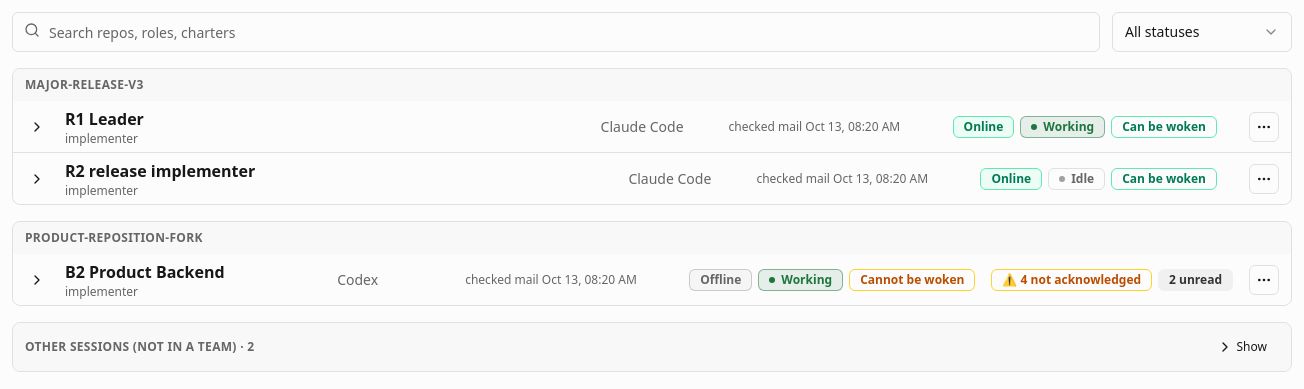
Team tab roster › closes the menu with Escape and moves focus with the arrow keys
The image size is (1304, 389).
Click the button named "Actions for R1 Leader". click: (1264, 126)
box: left=1249, top=112, right=1279, bottom=142
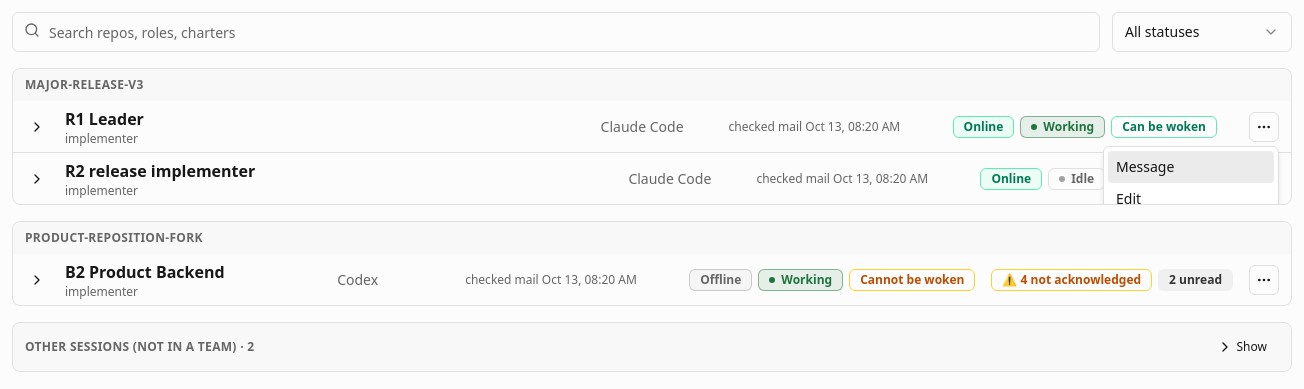
Press ArrowDown in the menu item "Message", box left=1108, top=150, right=1274, bottom=182
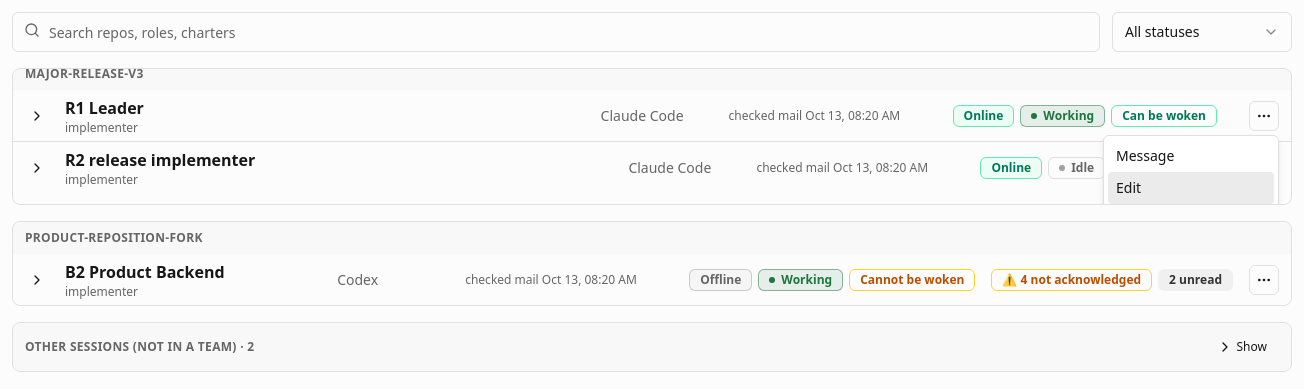
Press ArrowUp in the menu item "Edit", box left=1108, top=172, right=1274, bottom=204
Press ArrowUp in the menu item "Message", box left=1108, top=140, right=1274, bottom=172
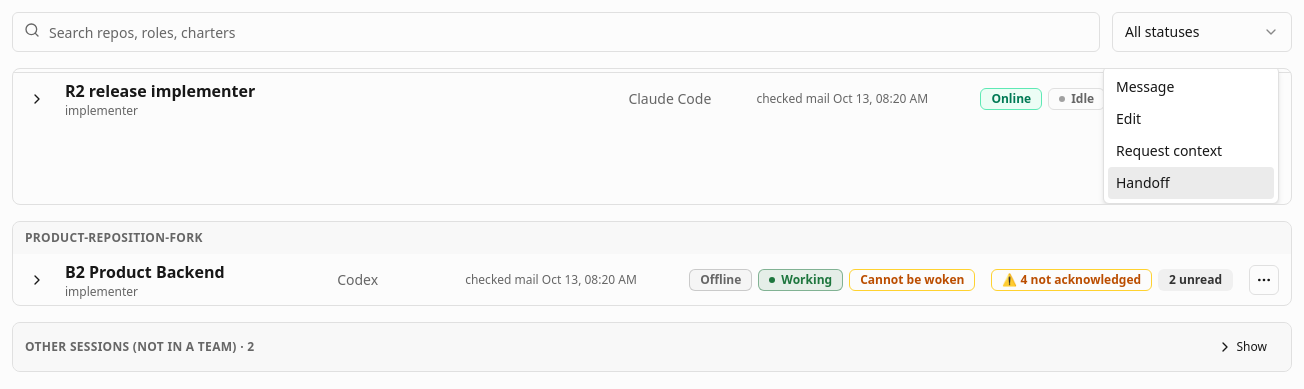
Press Escape in the menu item "Handoff", box left=1108, top=166, right=1274, bottom=198
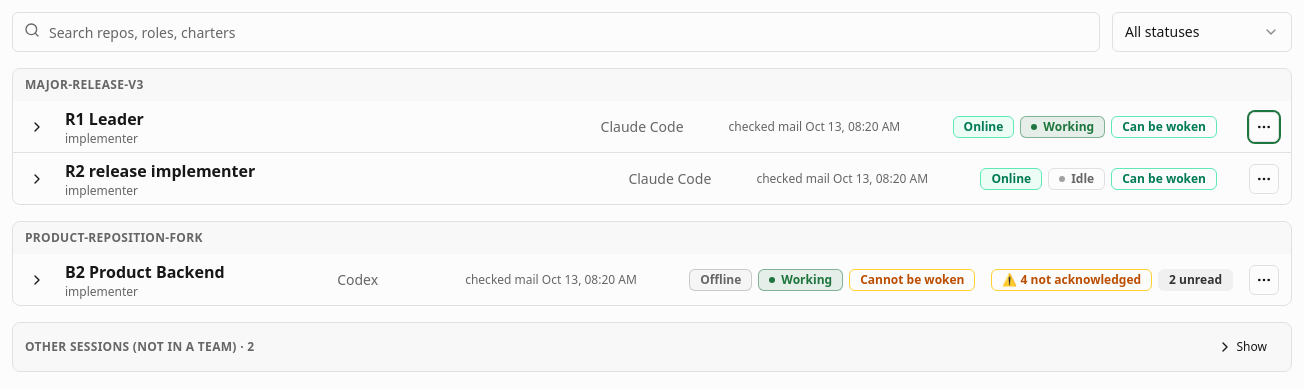
Expected: the menu is gone
